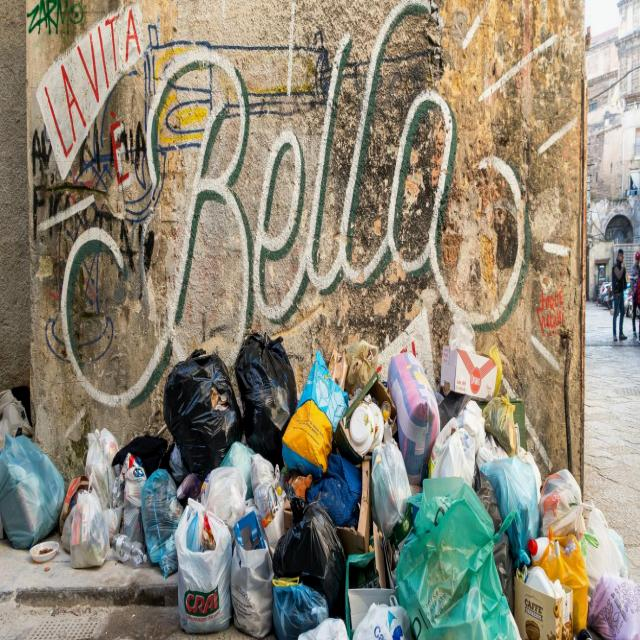garbage: (0, 342, 635, 636)
